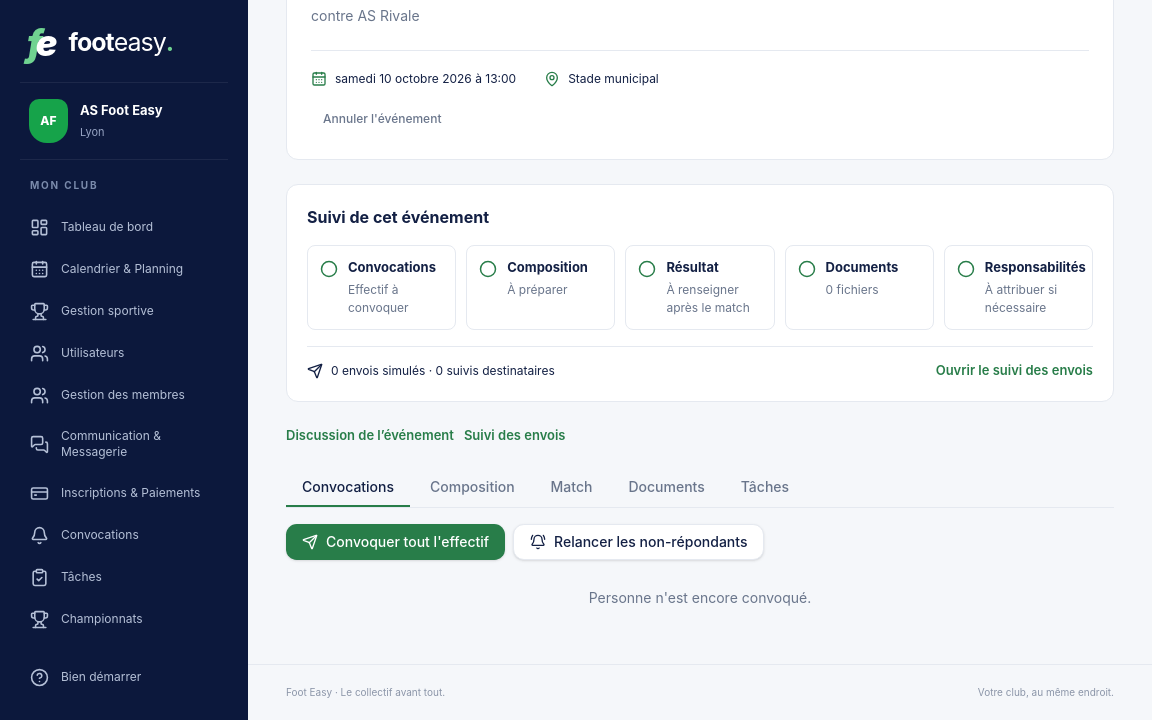
Test: EventPage › invites the whole roster
(page scrolled)
Click the button "Convoquer tout l'effectif".
click(396, 542)  # box [286,524,505,560]
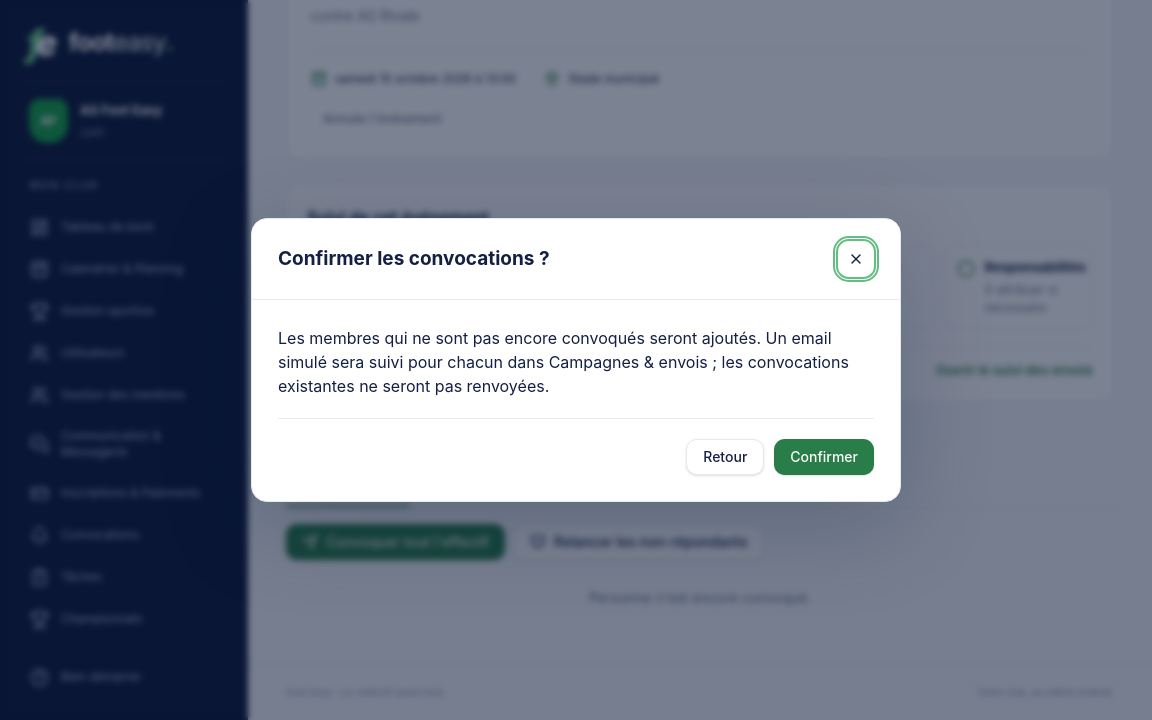
Click the button "Confirmer".
click(824, 457)  # box [774,439,874,475]
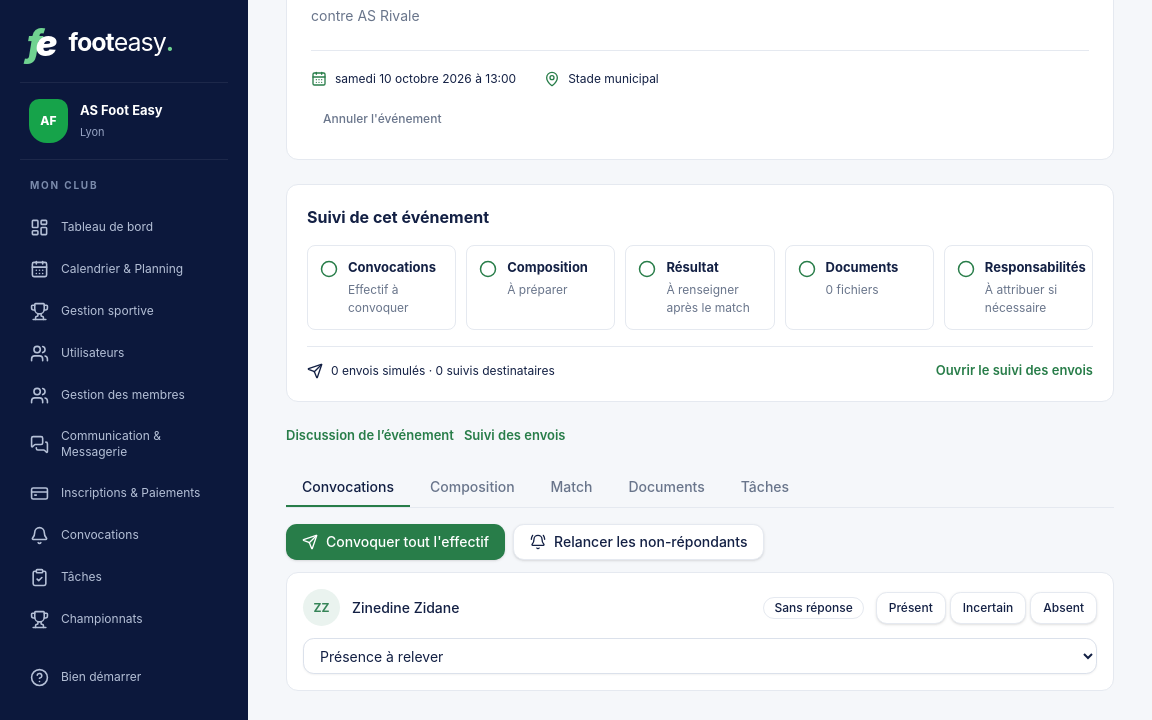
Check: the text "Zinedine Zidane" is shown, box [352,599,460,616]
Check: the text "Sans réponse" is shown, box [763,597,864,619]
